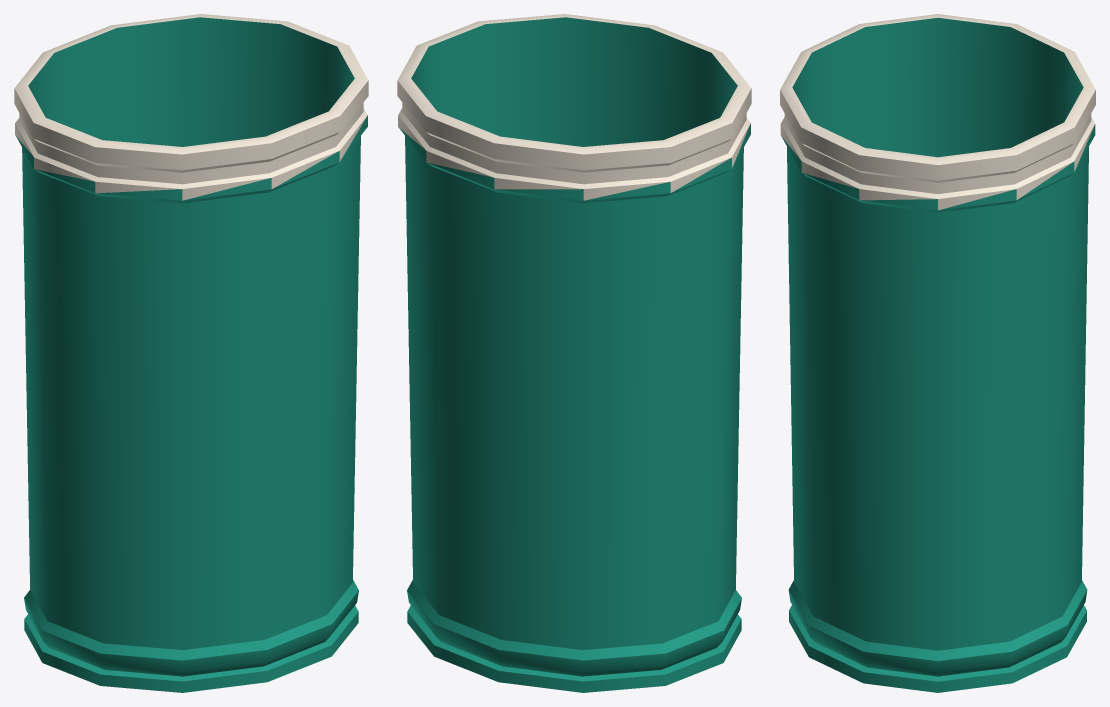
File: bin_a.glb
3 renders of one model, left to right at view 1: azimuth 30°, elevation 25°; view 2: azimuth 150°, elevation 25°; view 3: azimuth 270°, elevation 25°, orthographic.
Visible parts, largest first — view 1: body; view 2: body; view 3: body.
Part boxes in pixels (x1,y1,x2,y2): body: (14,14,368,692); body: (397,14,751,692); body: (780,14,1095,692).
Bounding box in the file's own units: 0.34 × 0.56 × 0.3.
